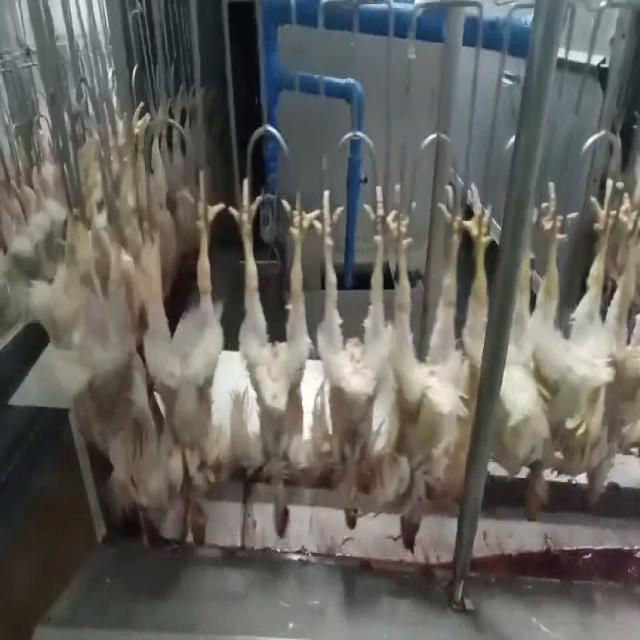chicken: (516, 176, 616, 523), (224, 174, 319, 536), (386, 180, 468, 555), (314, 180, 389, 530), (152, 174, 212, 547), (446, 184, 500, 496), (100, 184, 150, 516), (586, 198, 640, 504)
